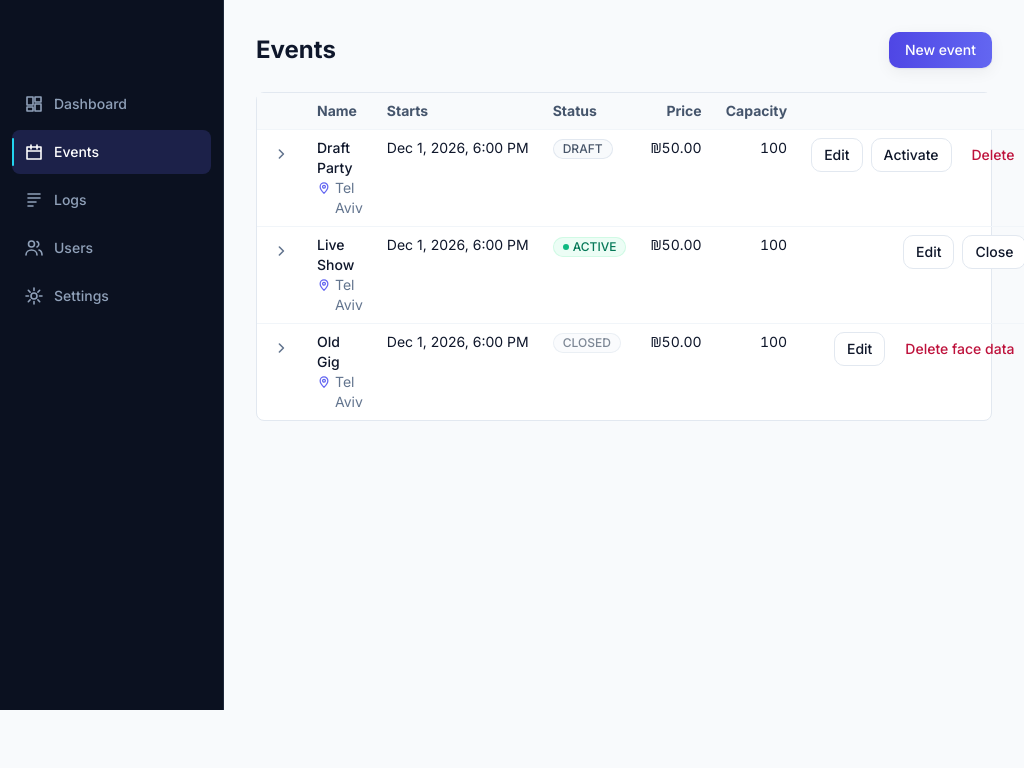
Test: EventsAdminPage › delete face data asks first, then says how many faces went
Click the button "Delete face data": coordinates (959, 349) 893,332 -> 1023,366
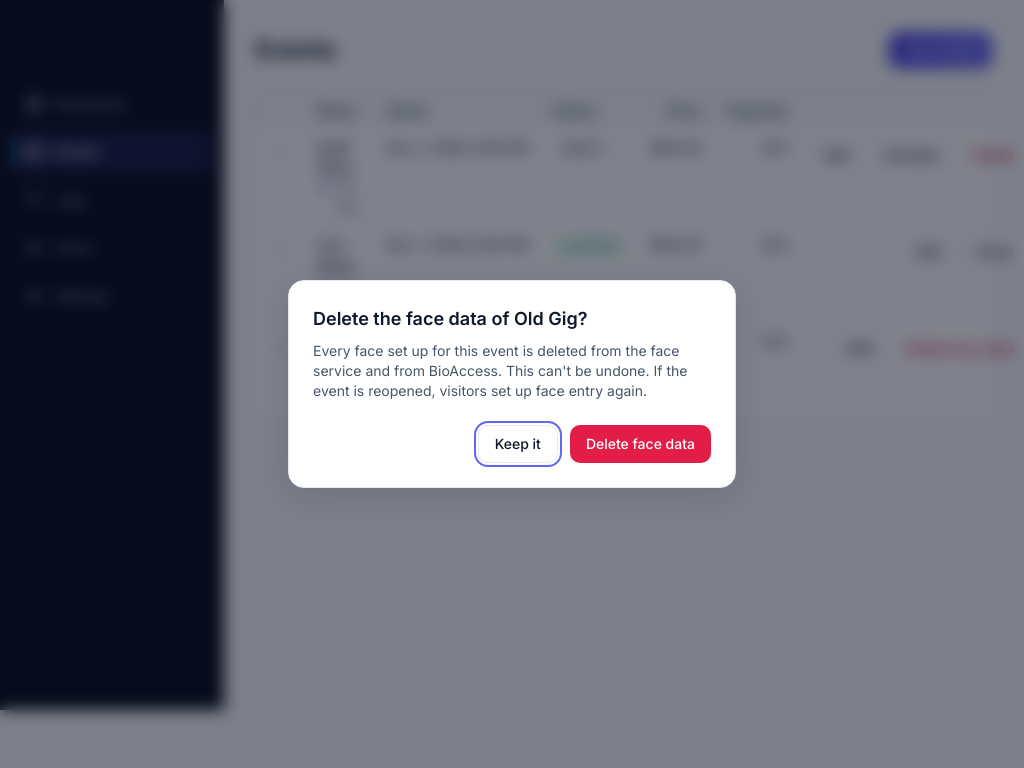
Now the dialog shows "can't be undone", box 313,342 -> 687,399
Click the button "Delete face data": coordinates (640, 444) 570,425 -> 711,463
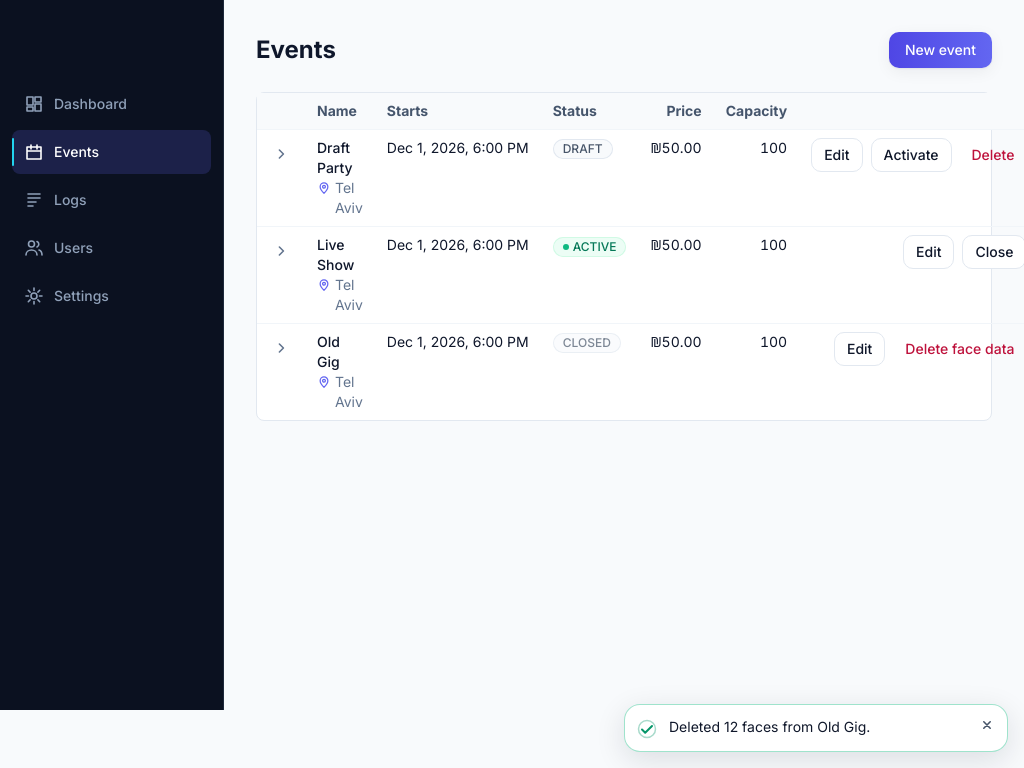
Now the text "Deleted 12 faces from Old Gig ." is shown, box 669,718 -> 870,735
